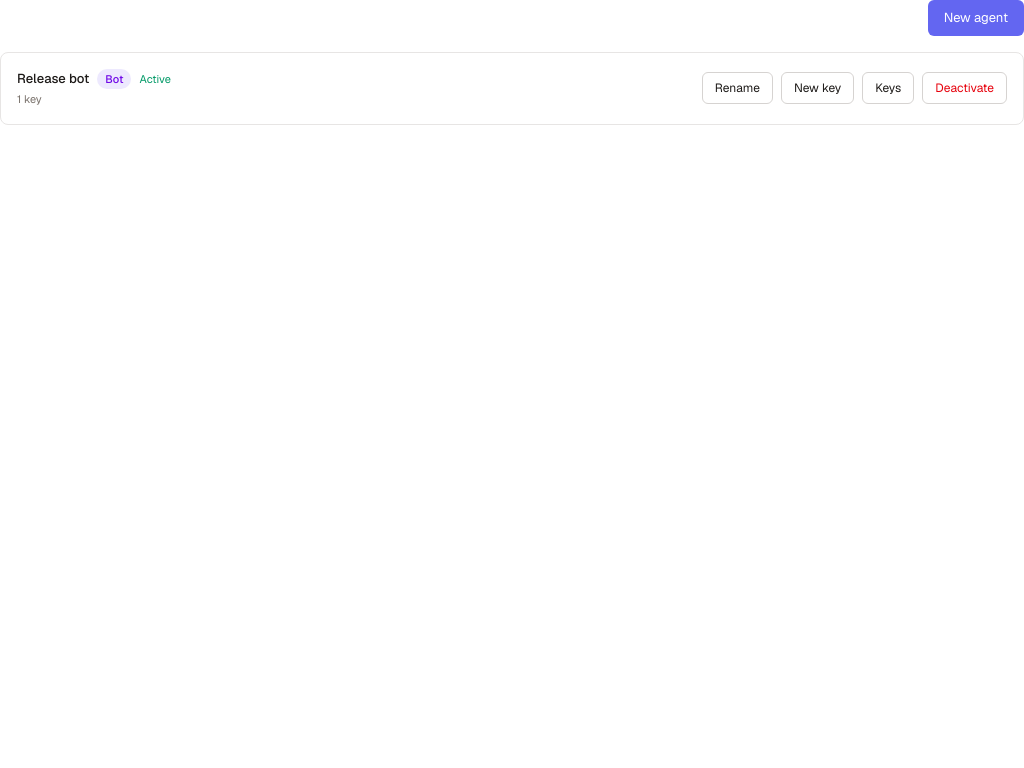
Test: AgentList › deactivates through a confirm dialog, then offers Reactivate and disables New key
The width and height of the screenshot is (1024, 768).
Click the button "Deactivate" at x=965, y=88, box x1=922 y1=72 x2=1007 y2=104
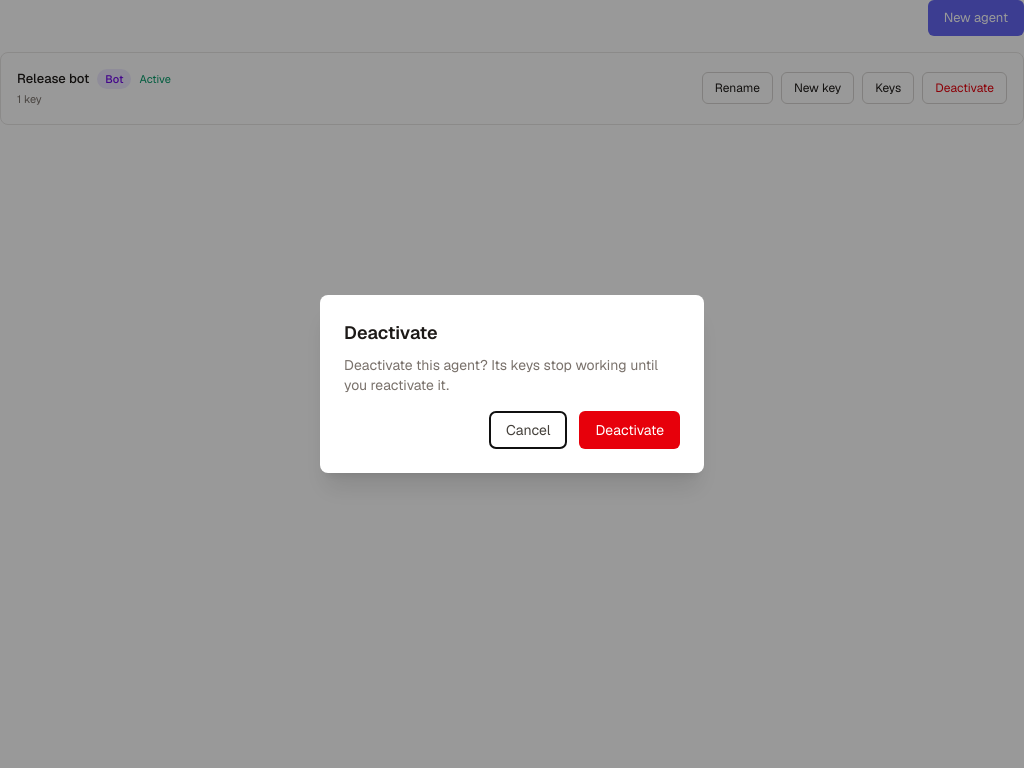
Now the text "Deactivate this agent" is shown, box x1=344 y1=356 x2=658 y2=394
Click the button "Deactivate" at x=630, y=430, box x1=580 y1=411 x2=680 y2=449
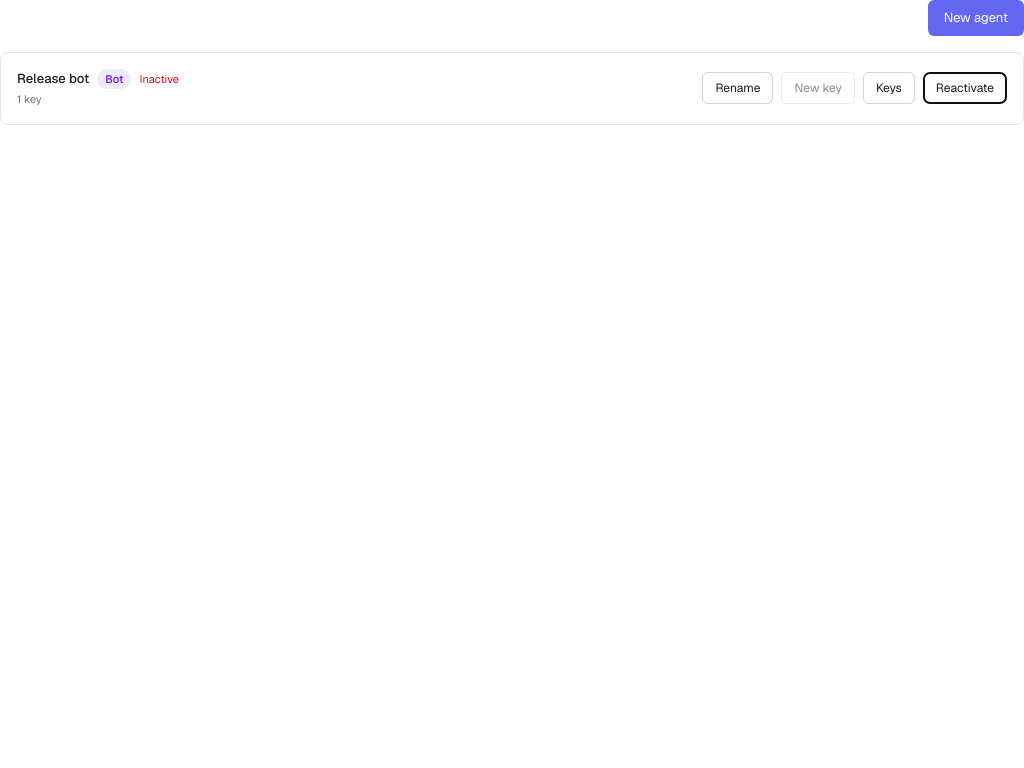
Now the button "Reactivate" is shown, box x1=923 y1=72 x2=1007 y2=104
Now the text "Inactive" is shown, box x1=140 y1=70 x2=179 y2=87
Now the button "New key" is disabled, box x1=782 y1=72 x2=855 y2=104
